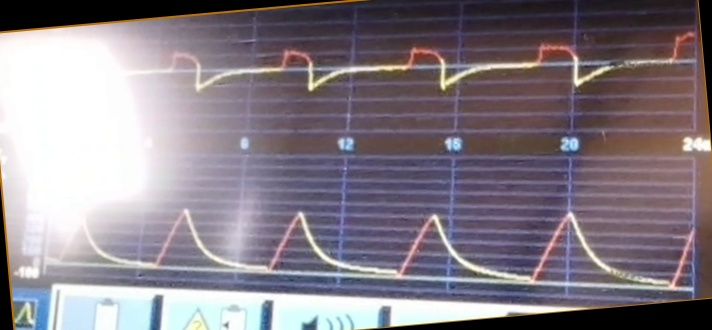Normal Flow: (126, 25, 695, 117)
Normal Volume: (48, 200, 693, 284)
